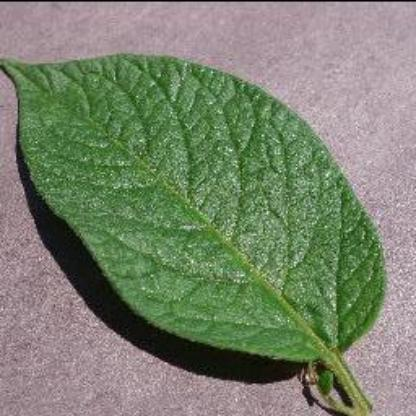Healthy-plant: (0, 39, 396, 409)
